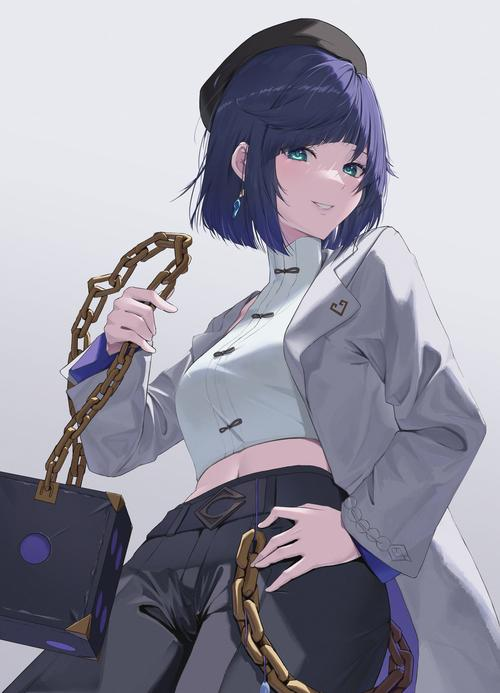夜兰: (1, 18, 487, 689)
